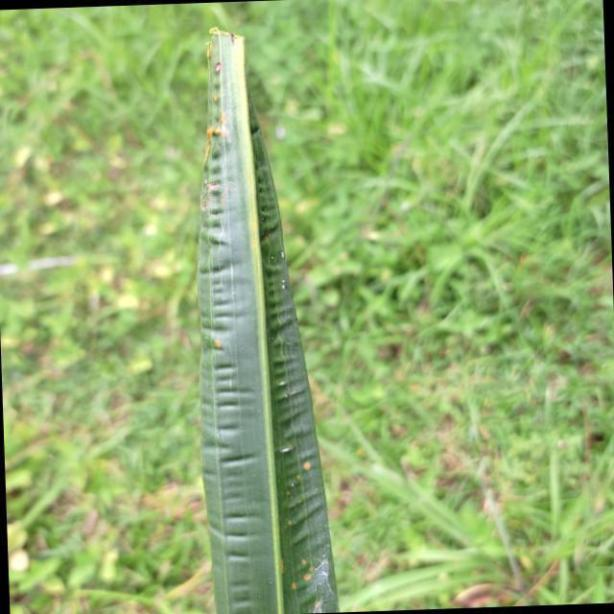Boron: (195, 17, 340, 614)
